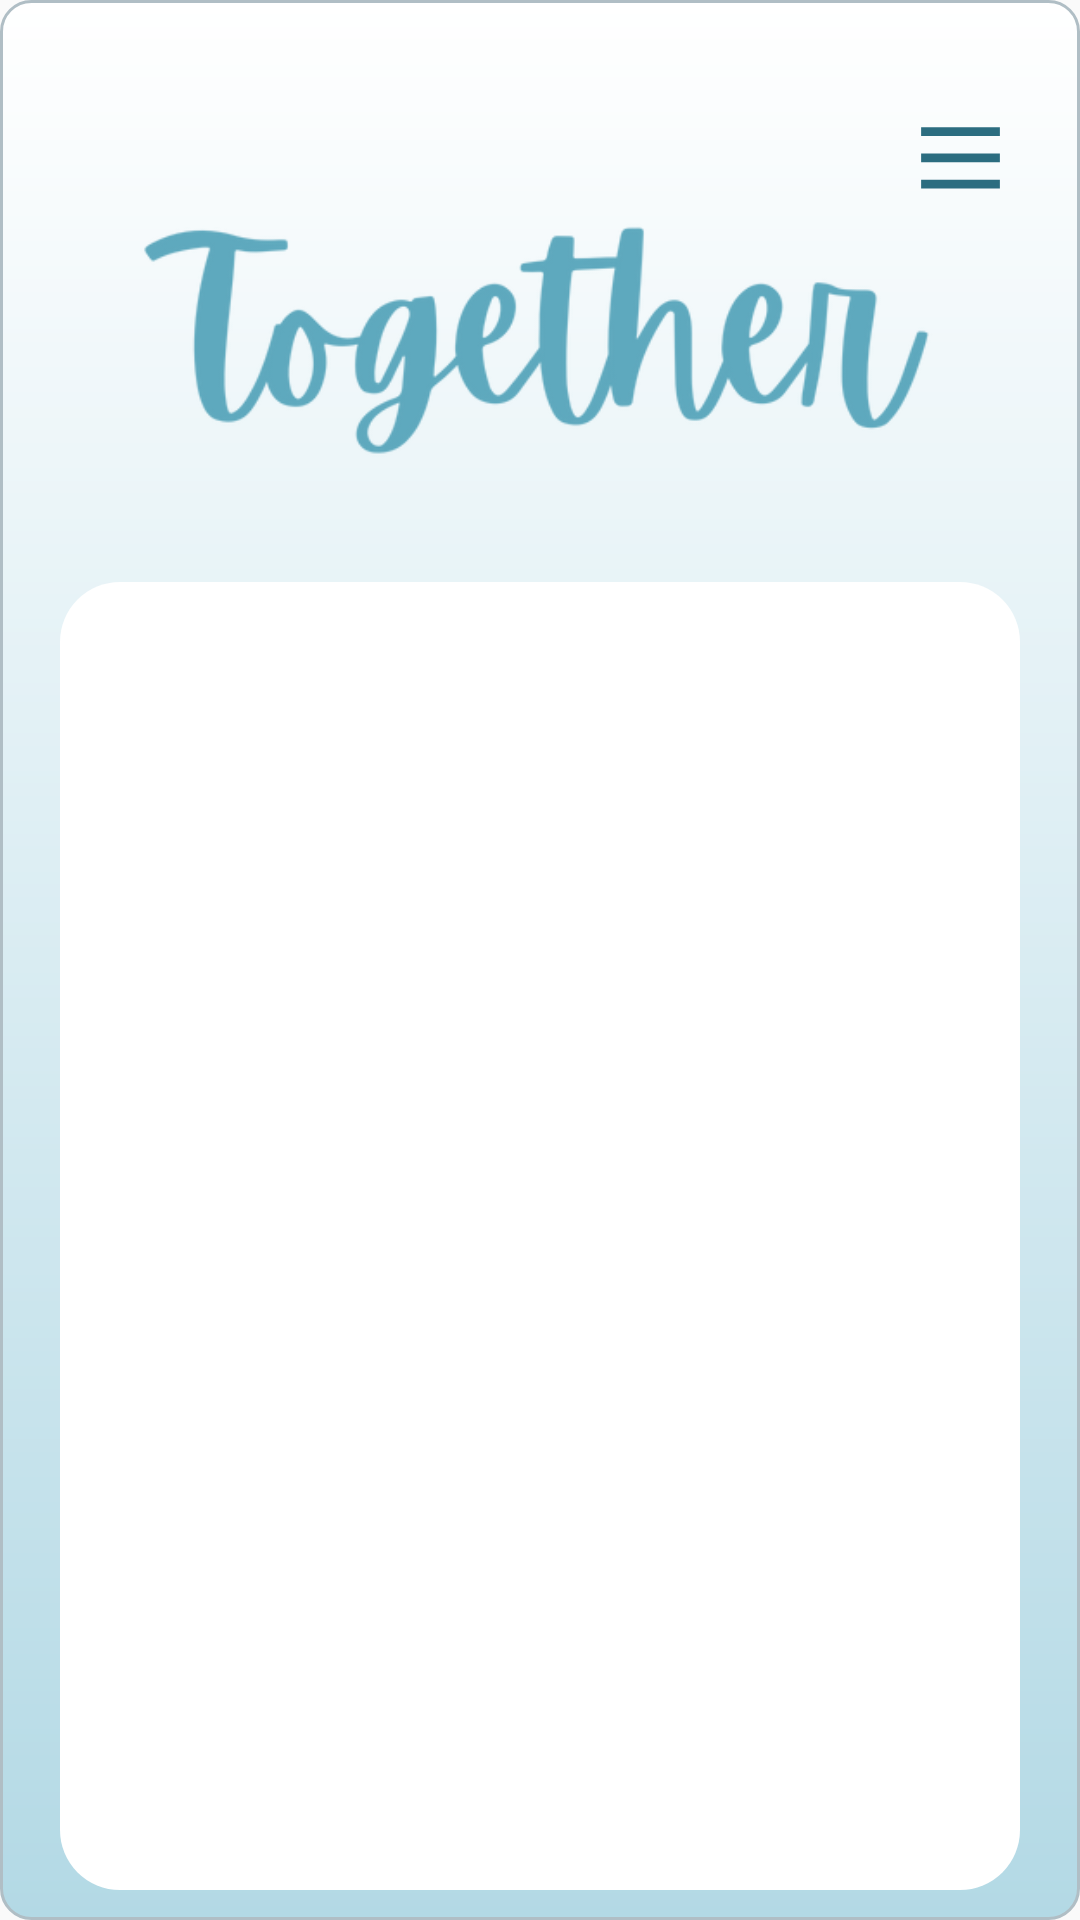

Named icons in this screenshot (1080 x 1920) and their bounding boxes, (x1, y1, x2, y2):
hamburger: (921, 127, 1000, 189)
